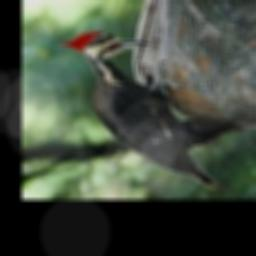Woodpecker: (61, 32, 220, 187)
